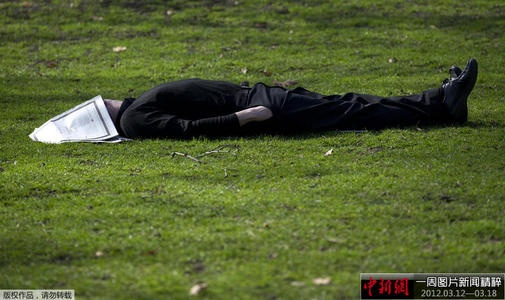falling: (103, 63, 467, 146)
